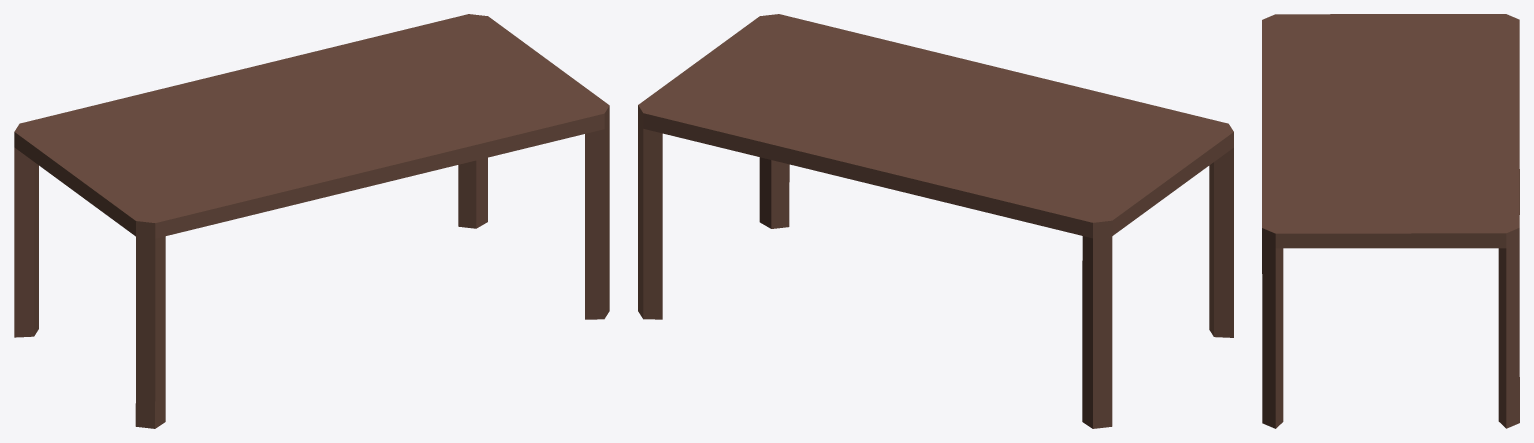
File: table.gltf
3 views of the same model, side by side, from view 1: azimuth 30°, elevation 25°; view 2: azimuth 150°, elevation 25°; view 3: azimuth 270°, elevation 25° (orthographic). The views are drawn at different scales.
Visible parts, largest first — view 1: pCube27; view 2: pCube27; view 3: pCube27.
Part boxes in pixels (x1,y1,x2,y2): pCube27: (14, 14, 609, 428); pCube27: (638, 14, 1233, 428); pCube27: (1262, 14, 1519, 428).
Bounding box in the file's own units: 1.49 × 0.6193 × 0.7396.
